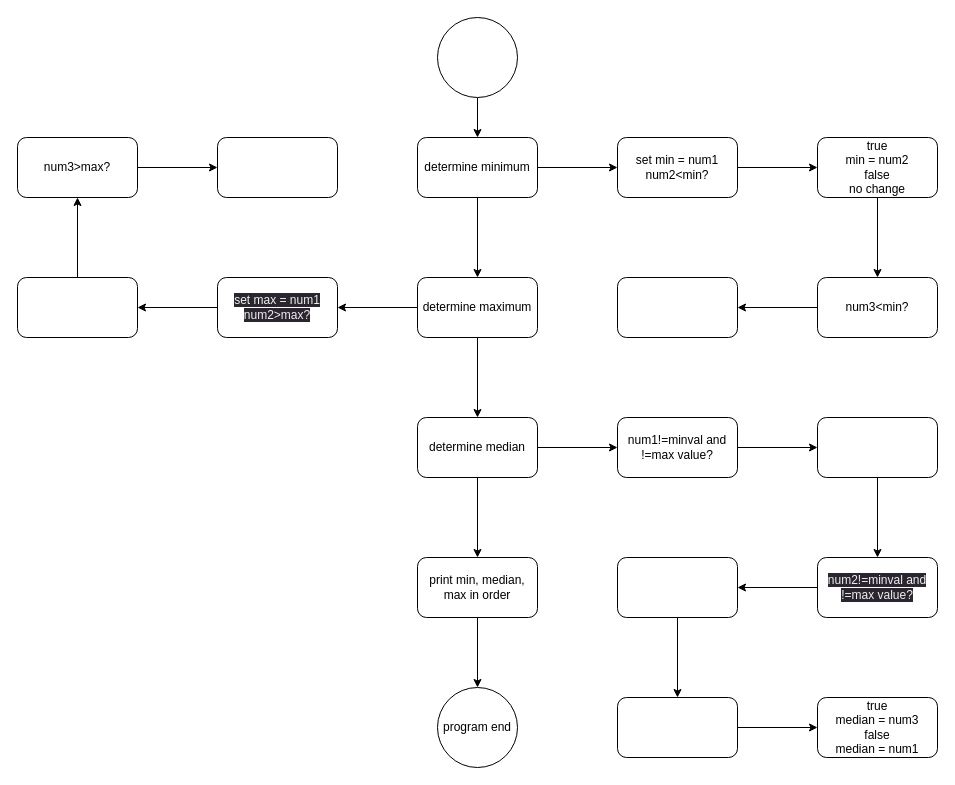
The diagram is 955 pixels wide and 785 high, and some of its shapes have lost their labels. The centre of each missing label's shape, as x and y in pixels:
input numbers: the point at 477,57
num3!=minval and !=max value?: the point at 677,727
true max = num2 false no change: the point at 77,307
true max = num3 false no change: the point at 277,167
true median = num1 false:: the point at 877,447
true median = num2 false:: the point at 677,587
true min = num3 false no change: the point at 677,307
